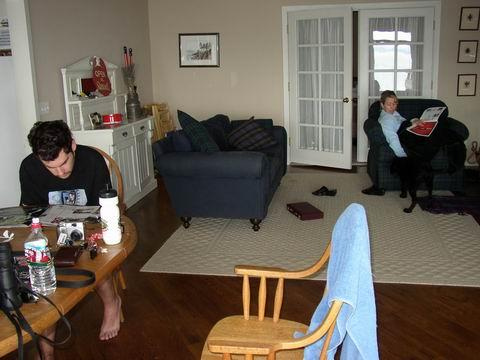person: (20, 118, 124, 340)
